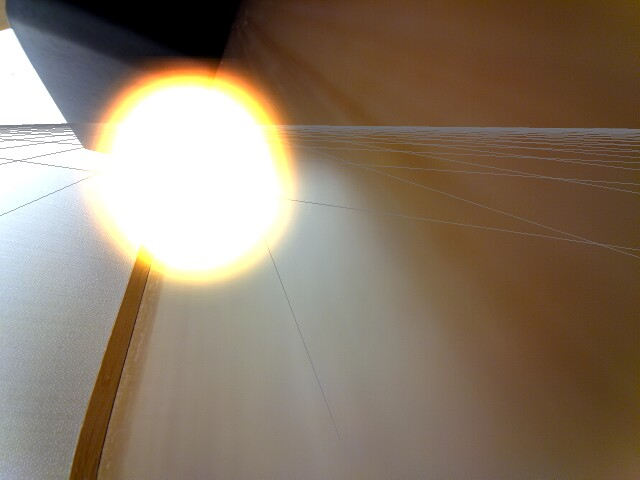fire: (99, 75, 299, 280)
